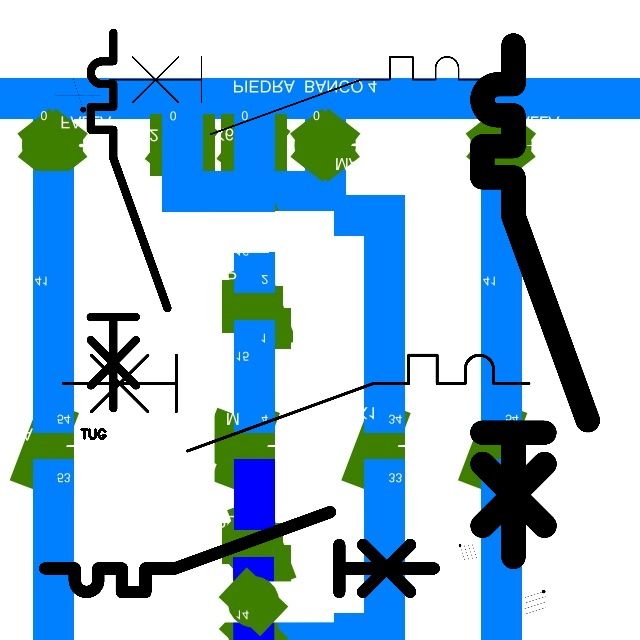interruptor_termomagnetico: (469, 32, 601, 570), (51, 343, 541, 463), (35, 502, 443, 602), (99, 47, 496, 144), (81, 23, 177, 418)
